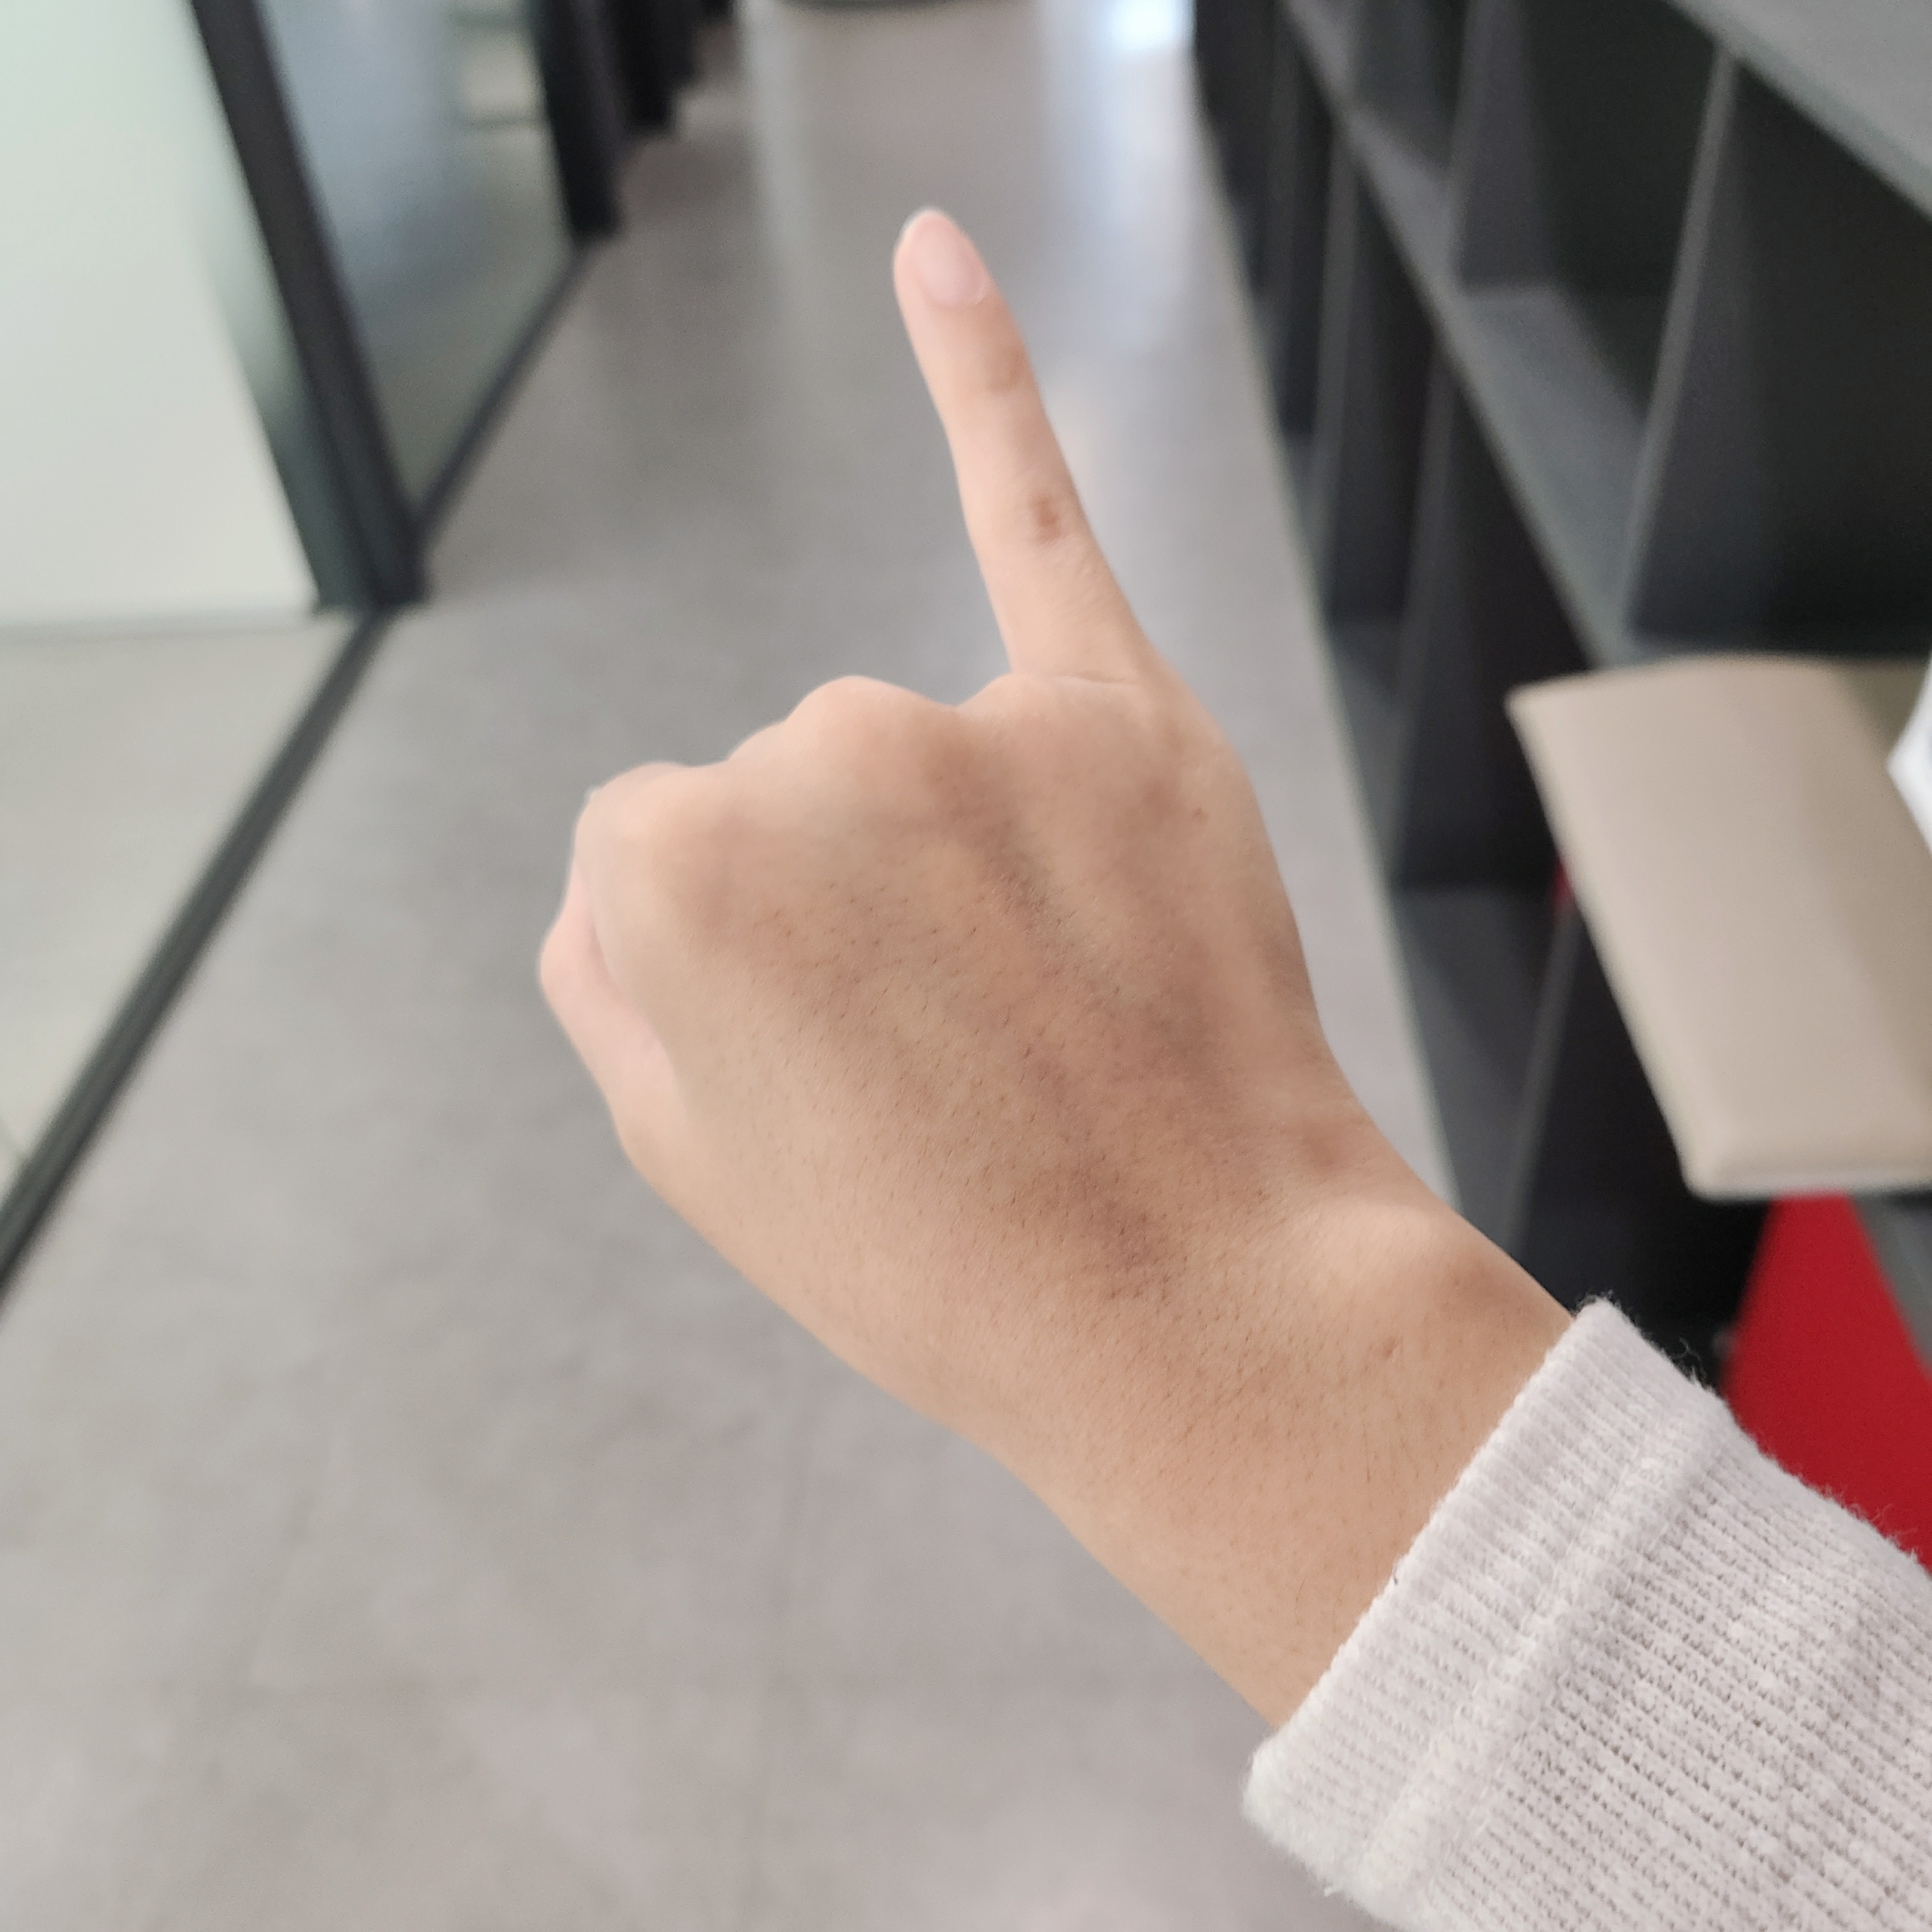fine: (534, 212, 1359, 1431)
